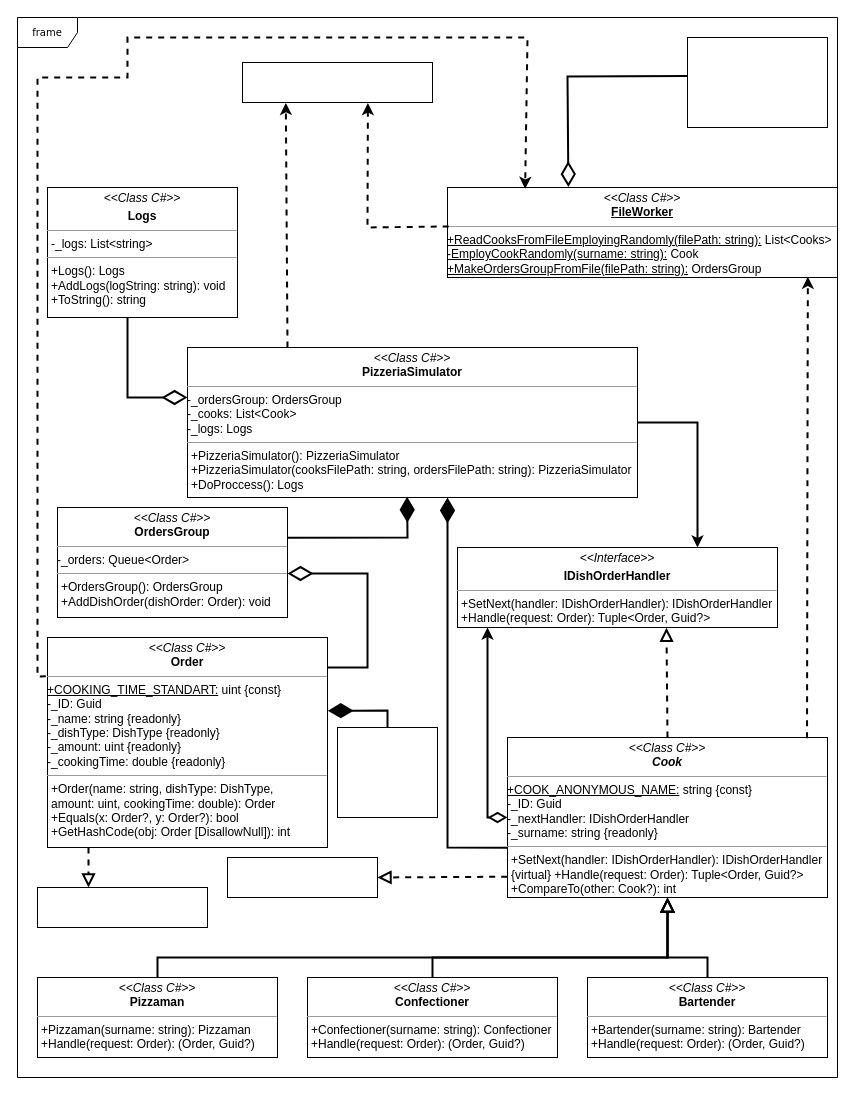
Image size: 855x1095. Some labels were removed from this diagram. Here are the shapes that lost their labels. From the top down, the centre of each, then its label:
the point at 337,82: <<Class C#>> Program
the point at 757,82: <<Enumeration>> CookType: sbyte Pizzaman = 0, Confectioner = 1, Bartender = 2
the point at 387,772: <<Enumeration>> DishType: sbyte Pizza, Drink, Sweet
the point at 302,877: <<Interface>> IComparable: Cook
the point at 122,907: <<Interface>> IEqualityComparer: Order
